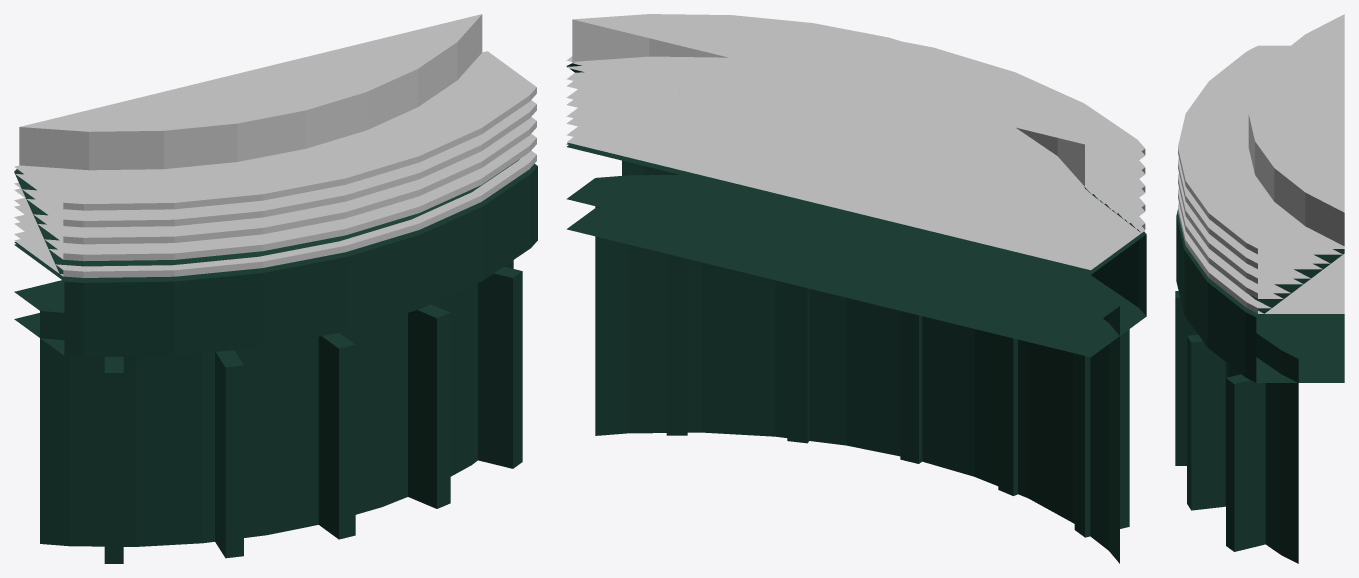
Rendered from cell_52.obj.
3 views of the same model, side by side, from view 1: azimuth 30°, elevation 25°; view 2: azimuth 150°, elevation 25°; view 3: azimuth 270°, elevation 25° (orthographic). The views are drawn at different scales.
Size of the model in its own units: 1 by 0.8 by 0.3525.
